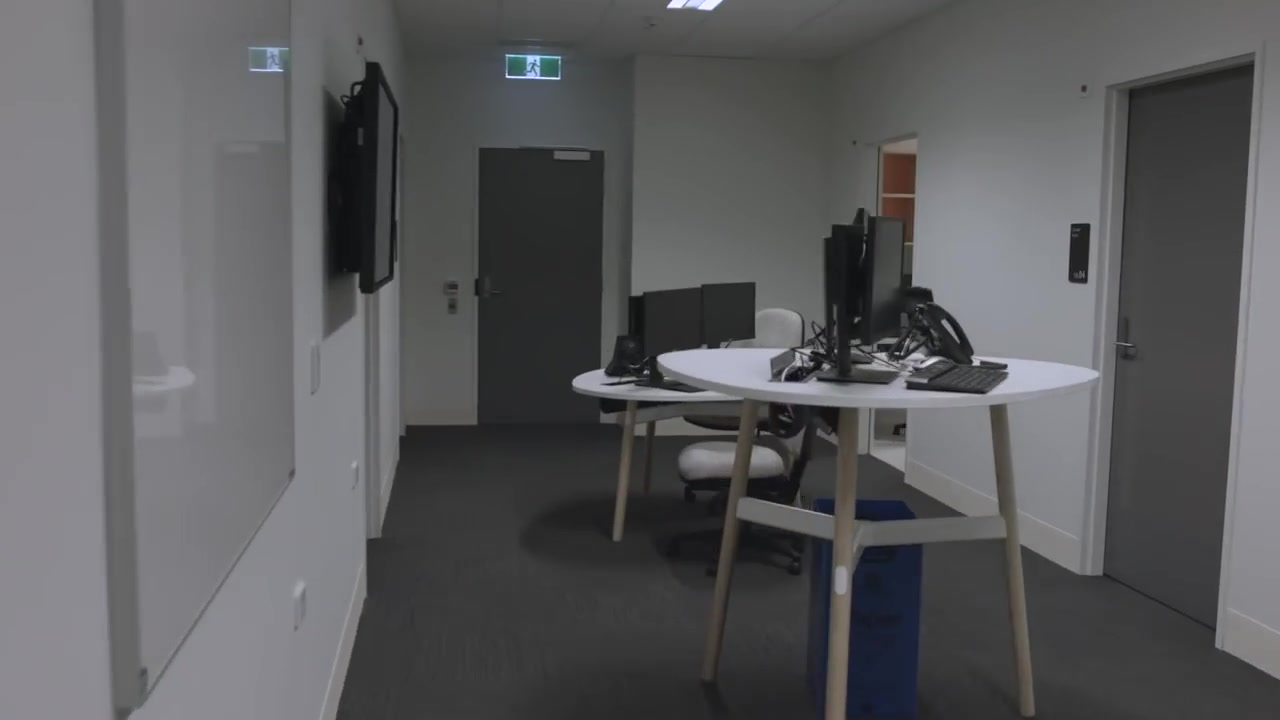TV: (346, 62, 401, 296)
chair: (668, 302, 820, 579)
computer: (860, 215, 908, 346), (640, 287, 708, 351), (700, 281, 758, 345)
door_handle: (1112, 312, 1142, 361), (478, 279, 505, 304)
keyboard: (905, 358, 1010, 395)
table: (660, 341, 1103, 720), (574, 366, 790, 547)
telephone: (914, 302, 976, 368)
